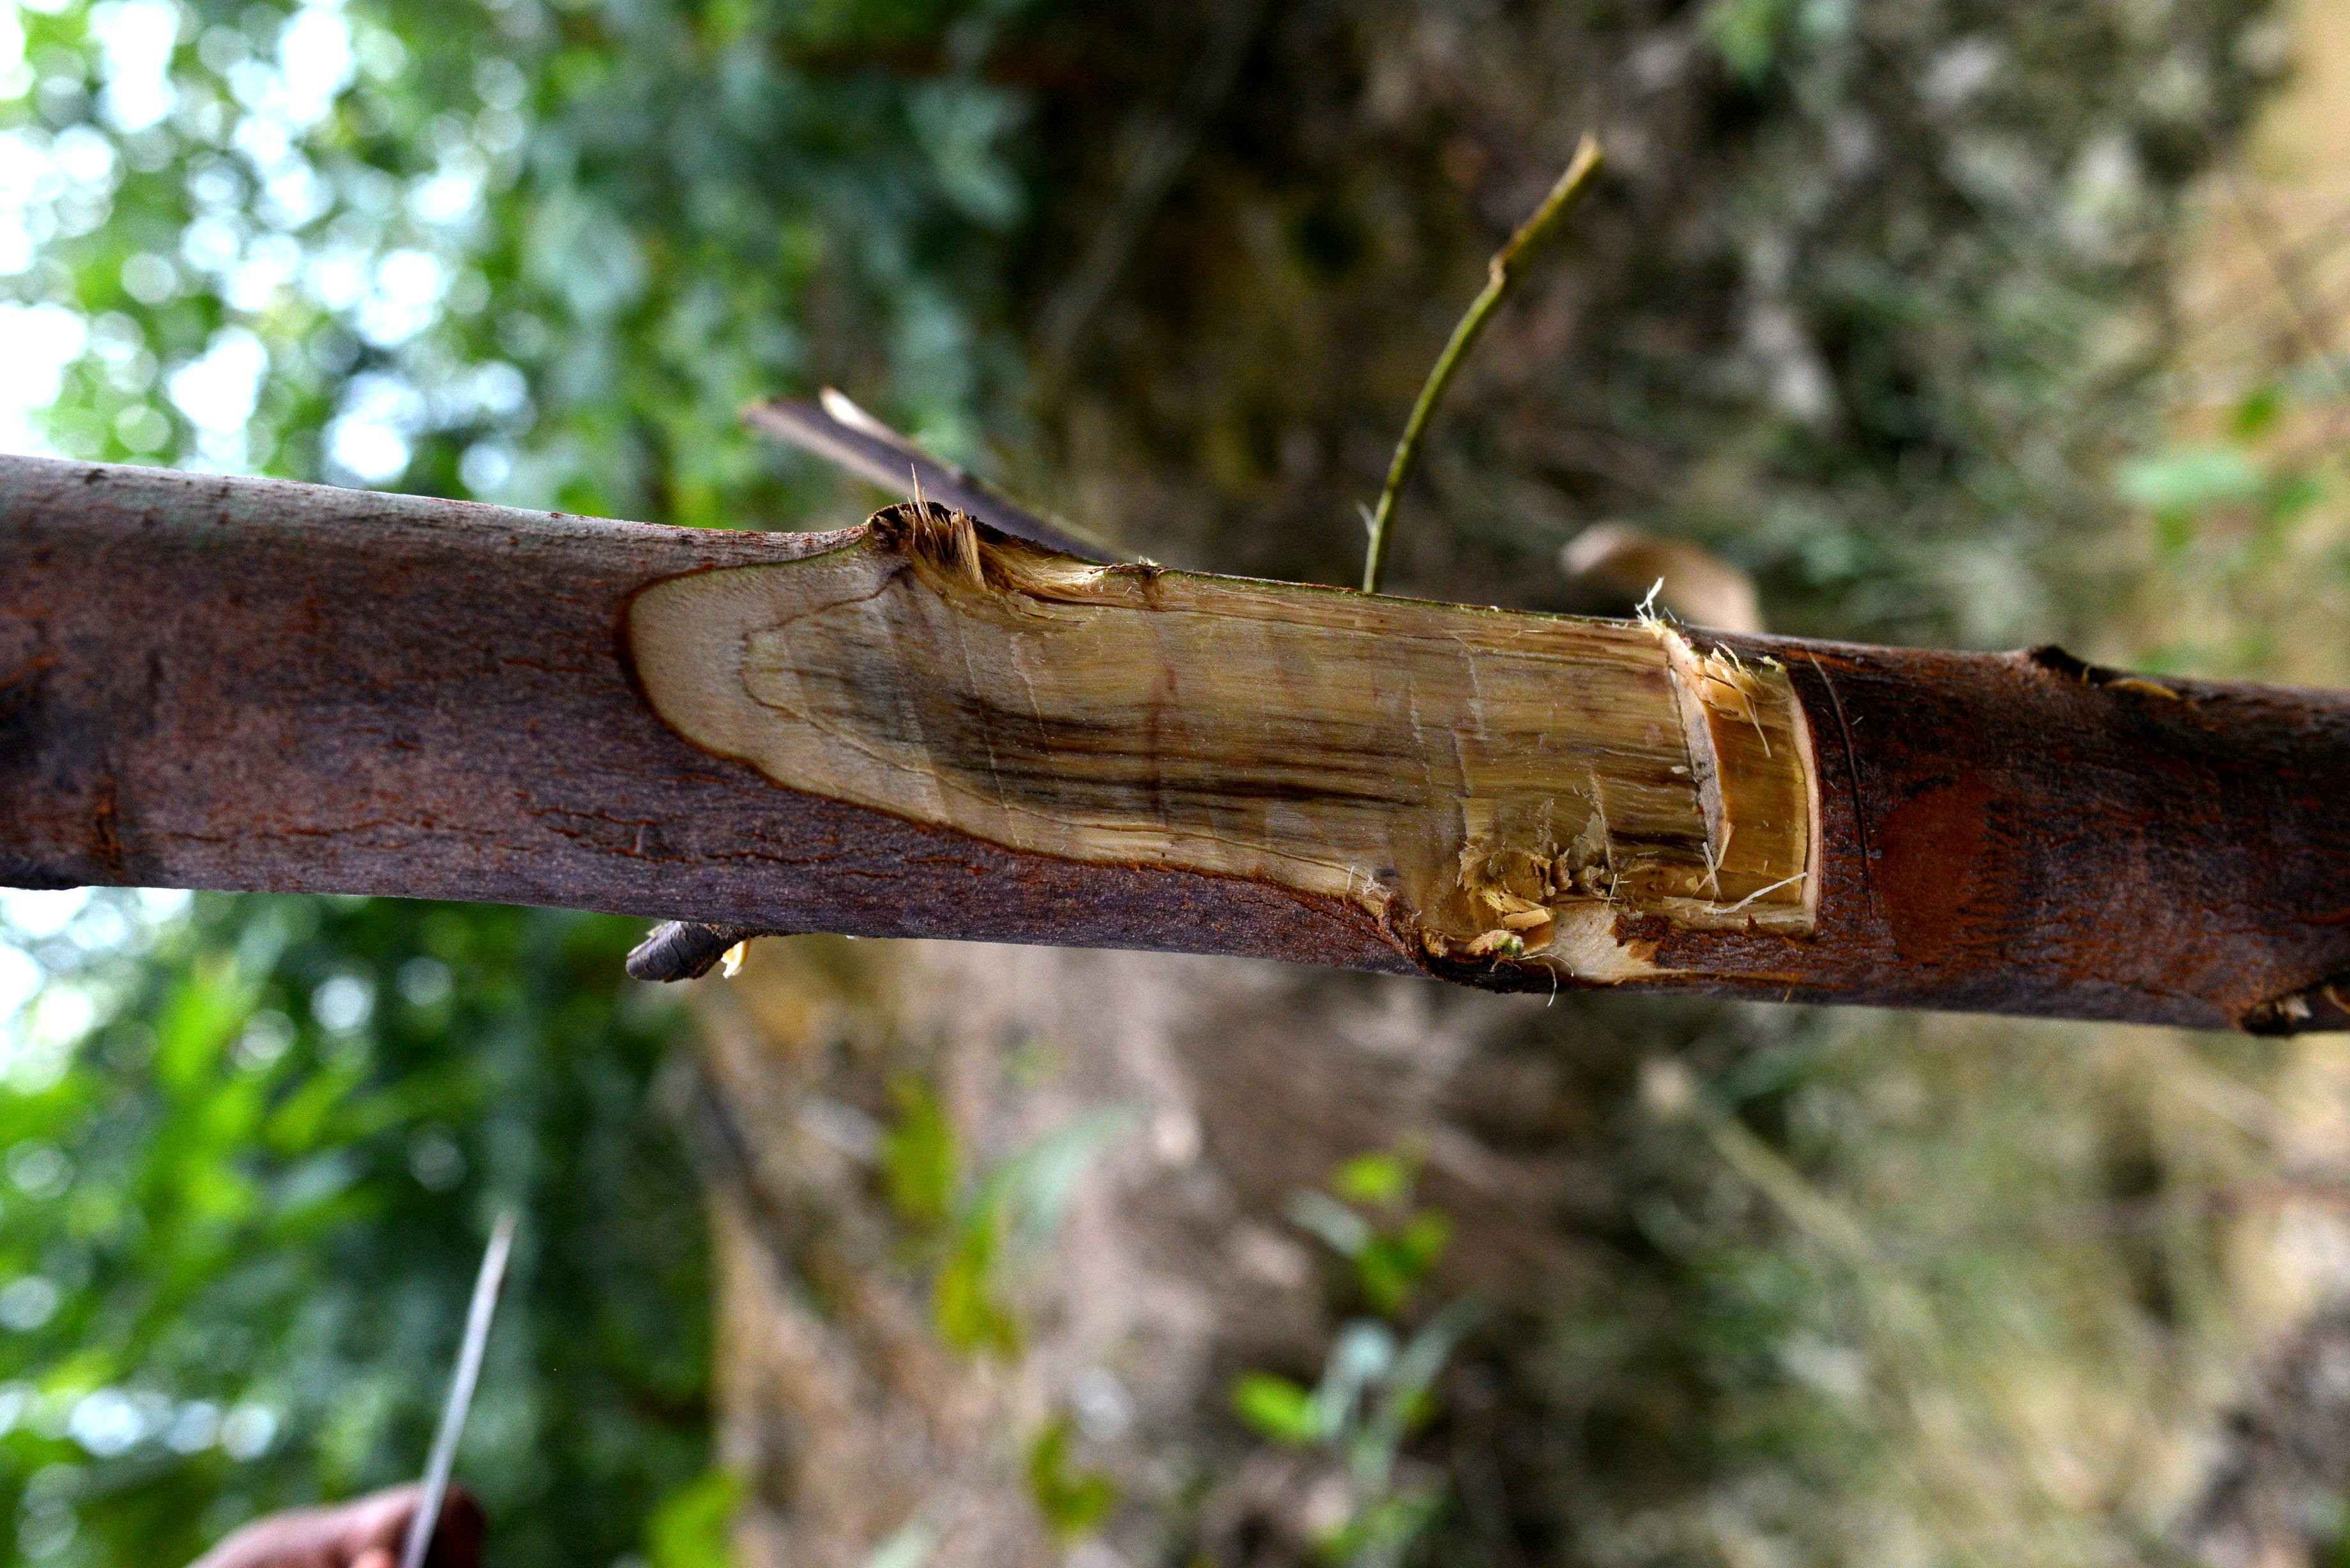Ralstonia: (598, 541, 1841, 940)
